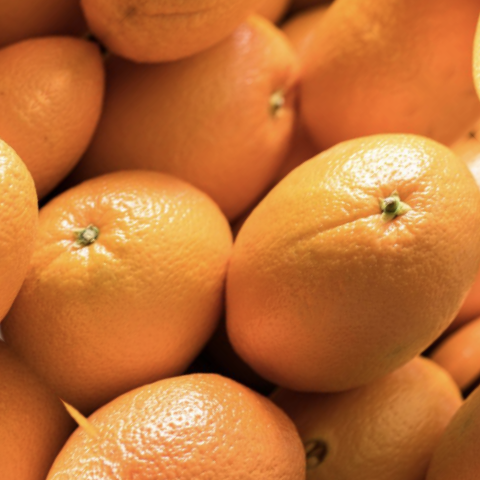orange: (154, 53, 480, 459), (0, 88, 312, 454)
